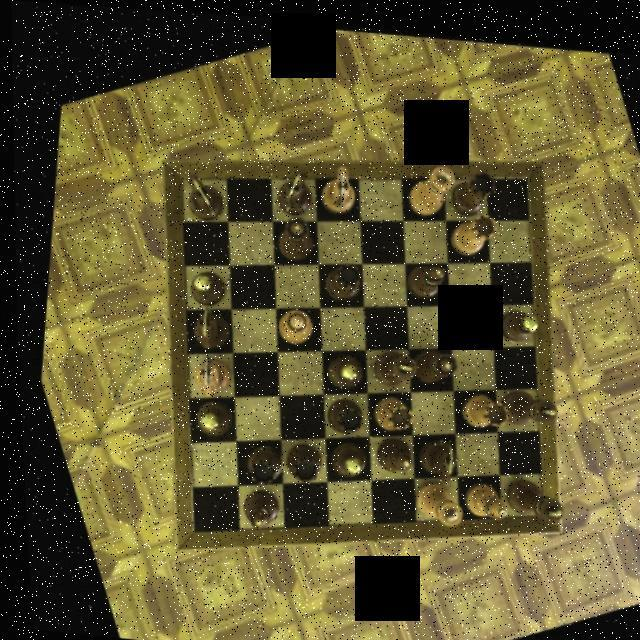chess-table-corners: (166, 504, 210, 544), (510, 482, 552, 521), (150, 156, 190, 193), (494, 154, 532, 187)
